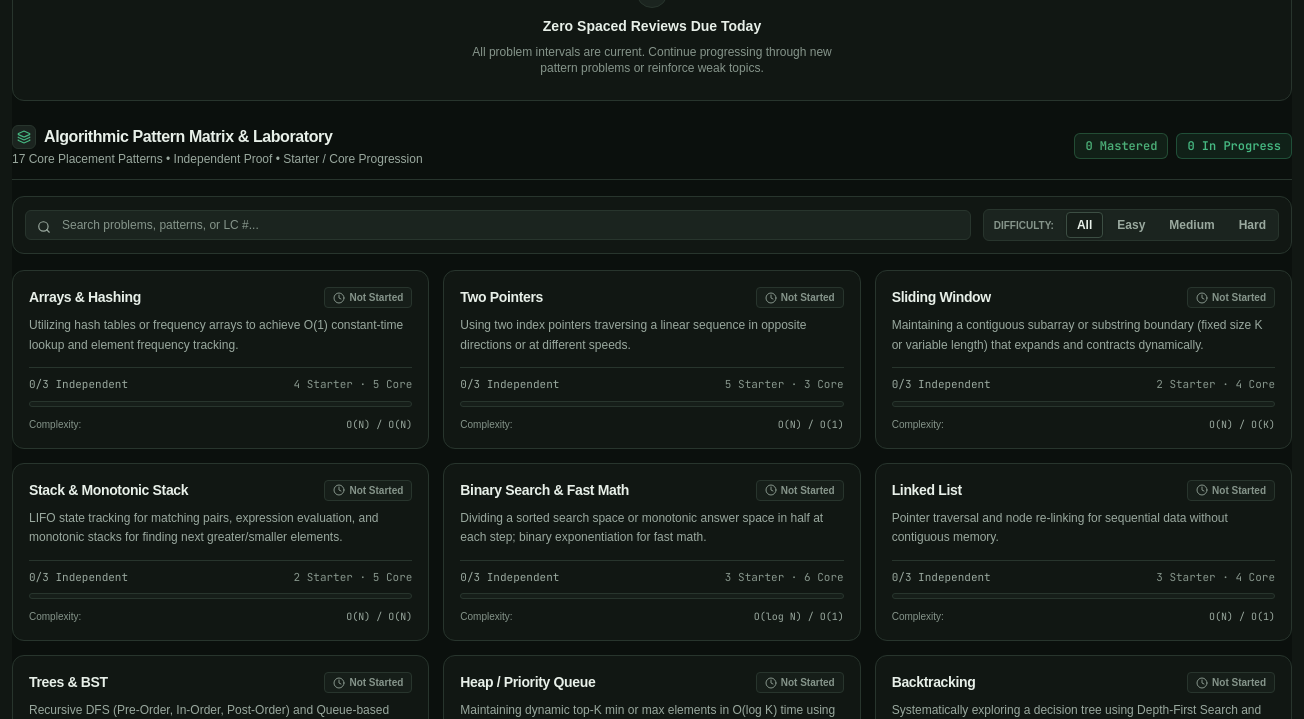
Test: DSA Subsystem Manufacturing — Zones 3 & 4 › DSAView Zones 1–4 Integration › 3.2 filters problem catalog when selecting a pattern from the pattern matrix
(page scrolled)
Click the button with test id "pattern-card-pat-002" at (502, 297), box [443, 270, 861, 449]
(page scrolled)
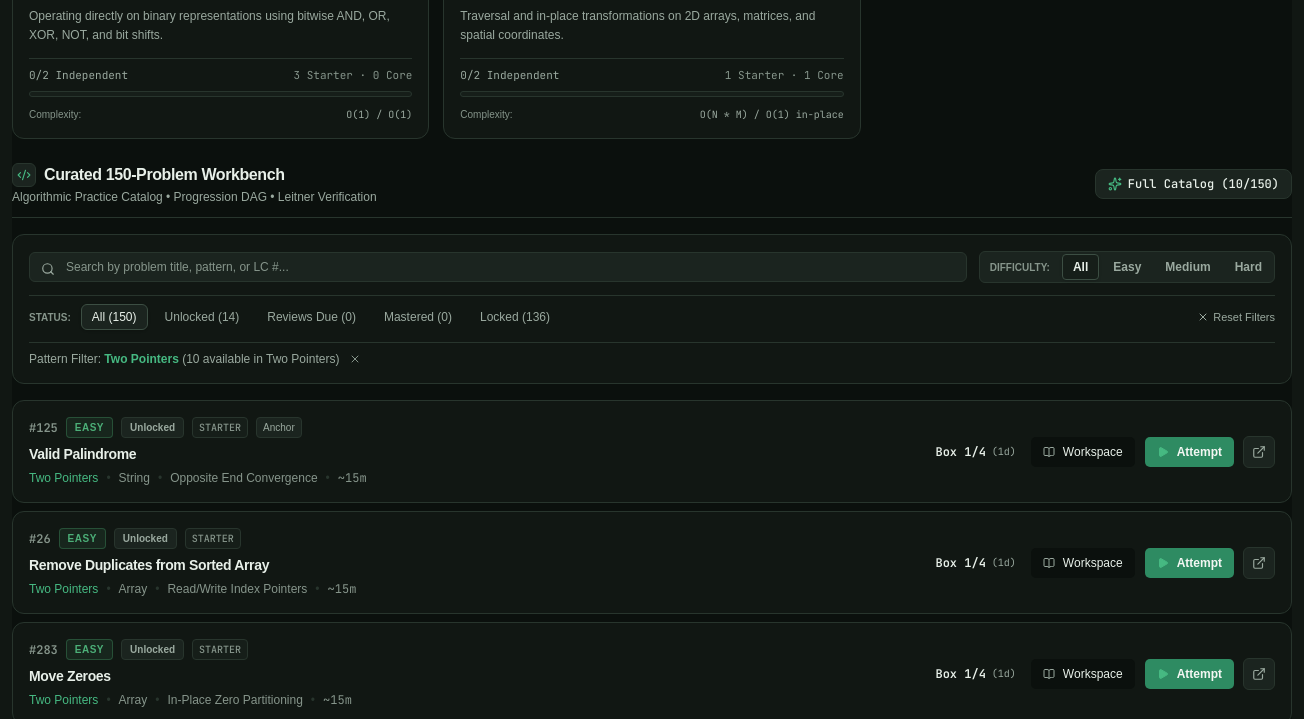
Now the text "Pattern Filter: Two Pointers (10 available in Two Pointers)" is shown, box [29, 351, 339, 367]
